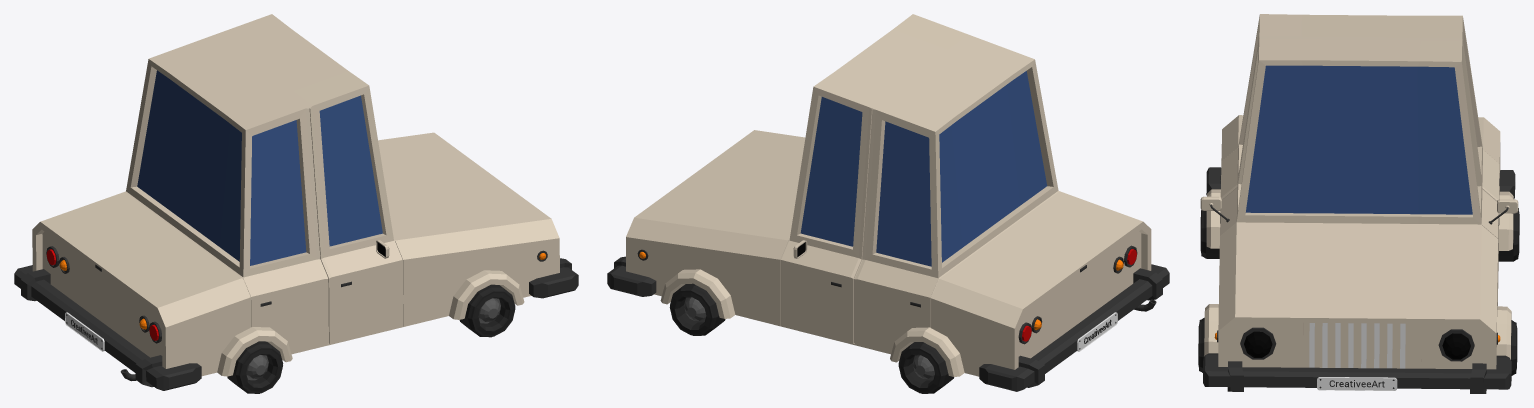
Rendered from Low+Poly+Family+Car.fbx.
3 renders of one model, left to right at view 1: azimuth 30°, elevation 25°; view 2: azimuth 150°, elevation 25°; view 3: azimuth 270°, elevation 25°, orthographic. The views are drawn at different scales.
Visible parts, largest first — view 1: Base, Bumper_02, Wheel_01_3, Wheel_02_3, Wing_4, Wing_3, Bumper_01, Main; view 2: Base, Bumper_02, Wheel_02, Wheel_01, Wing, Wing_2, Bumper_01, Main; view 3: Base, Bumper_01, Grid, front_lights, Main_2, Bumper_02, Wing, Wing_3, Wing_2, Wing_4, Cube, Wheel_02 (+3 smaller).
Boxes of the visible parts, left/top/right/bottom form: Base: left=32, top=14, right=559, bottom=376; Bumper_02: left=14, top=265, right=201, bottom=390; Wheel_01_3: left=459, top=284, right=515, bottom=337; Wheel_02_3: left=227, top=341, right=283, bottom=393; Wing_4: left=217, top=327, right=292, bottom=376; Wing_3: left=449, top=270, right=524, bottom=319; Bumper_01: left=529, top=258, right=578, bottom=298; Main: left=65, top=312, right=104, bottom=351; Base: left=626, top=14, right=1151, bottom=376; Bumper_02: left=979, top=264, right=1169, bottom=391; Wheel_02: left=898, top=342, right=954, bottom=393; Wheel_01: left=669, top=283, right=725, bottom=335; Wing: left=660, top=269, right=735, bottom=318; Wing_2: left=890, top=327, right=964, bottom=376; Bumper_01: left=607, top=256, right=656, bottom=296; Main: left=1077, top=312, right=1117, bottom=351; Base: left=1218, top=14, right=1500, bottom=369; Bumper_01: left=1203, top=353, right=1511, bottom=393; Grid: left=1309, top=323, right=1405, bottom=368; front_lights: left=1240, top=327, right=1474, bottom=361; Main_2: left=1317, top=377, right=1397, bottom=390; Bumper_02: left=1206, top=167, right=1515, bottom=198; Wing: left=1496, top=306, right=1511, bottom=359; Wing_3: left=1204, top=304, right=1218, bottom=356; Wing_2: left=1499, top=191, right=1513, bottom=250; Wing_4: left=1206, top=189, right=1220, bottom=248; Cube: left=1200, top=196, right=1518, bottom=213; Wheel_02: left=1498, top=208, right=1519, bottom=261.
Bounding box in the file's own units: 358 × 202 × 221.
